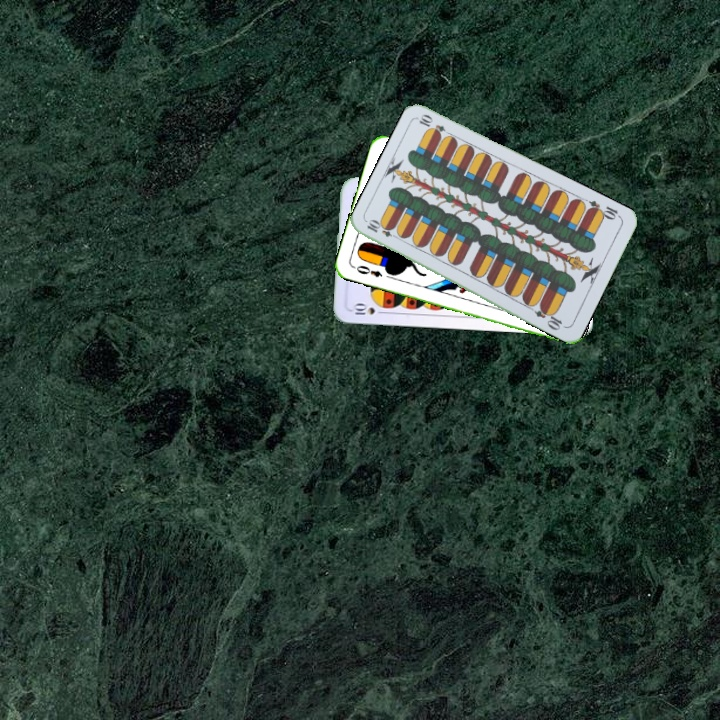E10: (583, 196, 623, 223), (363, 217, 402, 242)
EO: (349, 261, 385, 280)
S10: (348, 300, 388, 317)
